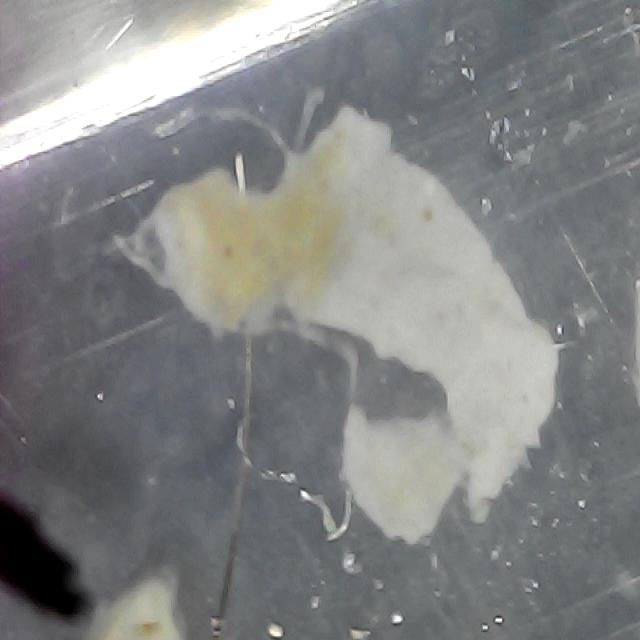fragments: (112, 52, 630, 580)
